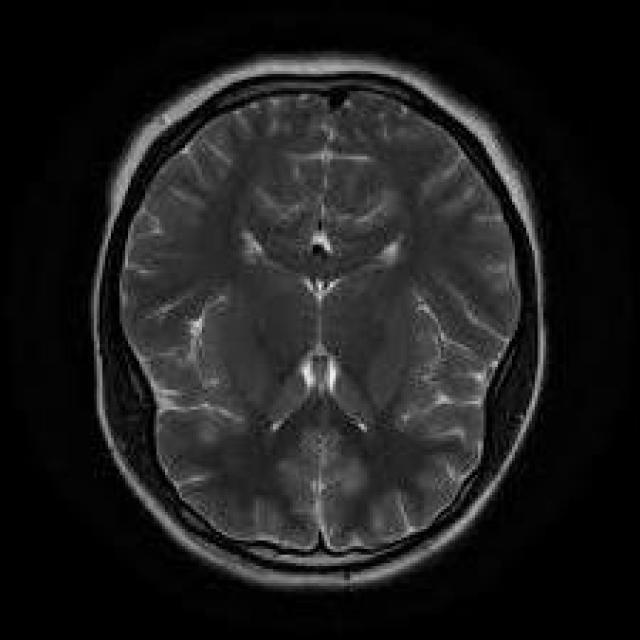notumor: (94, 54, 543, 586)
